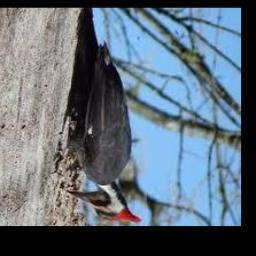Woodpecker: (63, 43, 141, 223)
